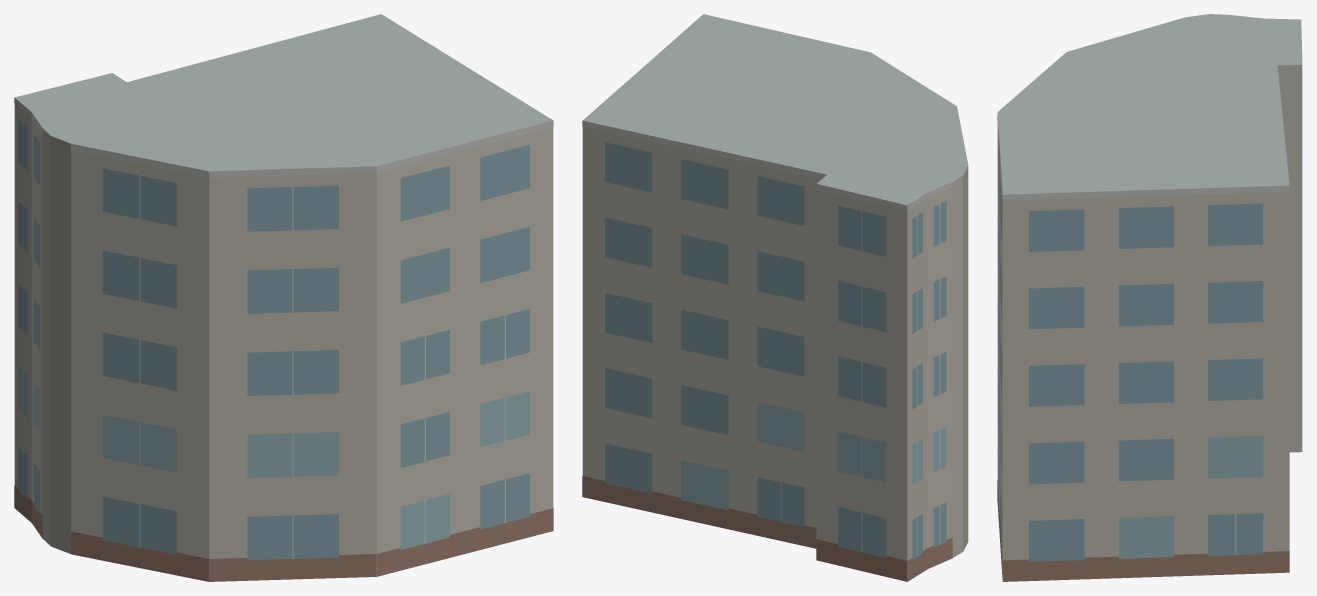
Rendered from survey-upis-32885168.glb.
3 views of the same model, side by side, from view 1: azimuth 30°, elevation 25°; view 2: azimuth 150°, elevation 25°; view 3: azimuth 270°, elevation 25° (orthographic). The views are drawn at different scales.
Parts seen in each view (by area): view 1: survey-upis-32885168.tmp; view 2: survey-upis-32885168.tmp; view 3: survey-upis-32885168.tmp.
Part boxes in pixels (box(x1,y1,x2,y2)): survey-upis-32885168.tmp: box(14, 14, 553, 581); survey-upis-32885168.tmp: box(582, 14, 968, 581); survey-upis-32885168.tmp: box(997, 14, 1302, 581).
Size of the model in its own units: 16.08 by 16.05 by 11.47.
